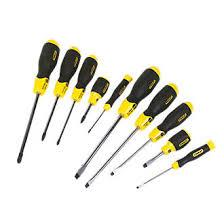screwdriver: (116, 98, 214, 187), (14, 27, 78, 162), (72, 134, 162, 188), (64, 51, 104, 133)
